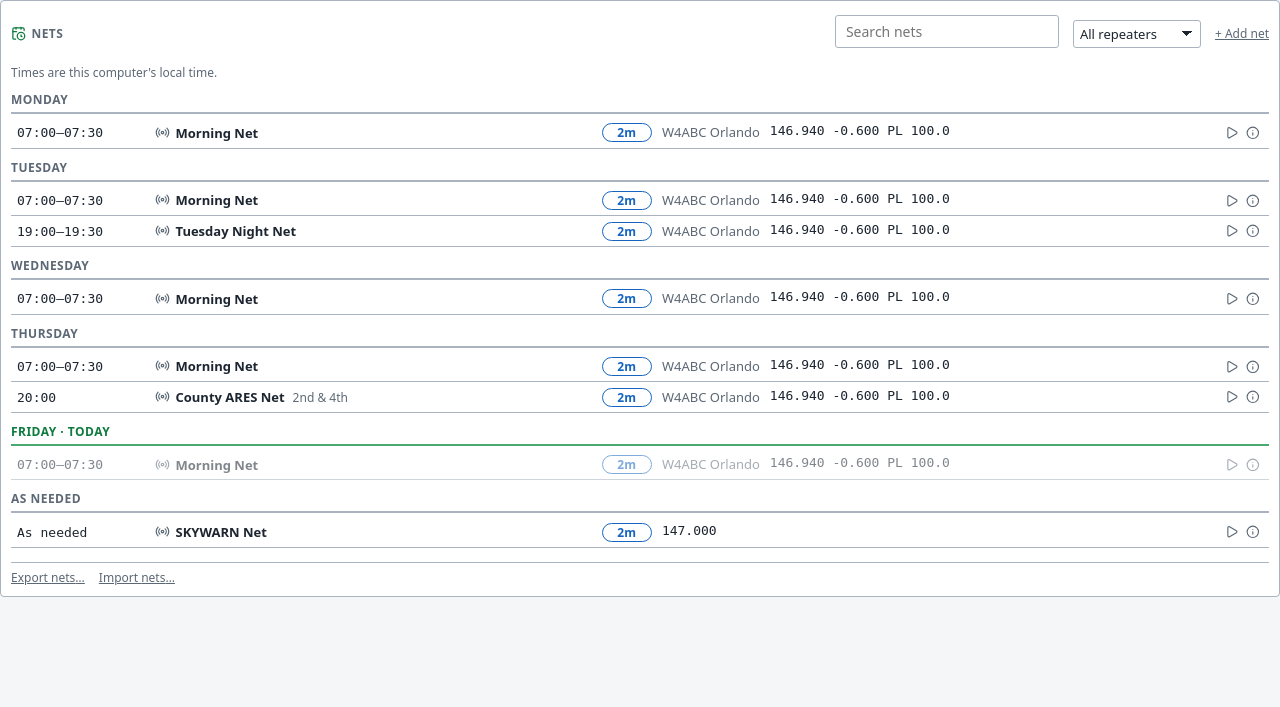
Scenario: NetsTab › edits a net listed under several days in one form
Click the 1st button named "Show details of Morning Net" at (1253, 133), box 1243,123 -> 1263,143
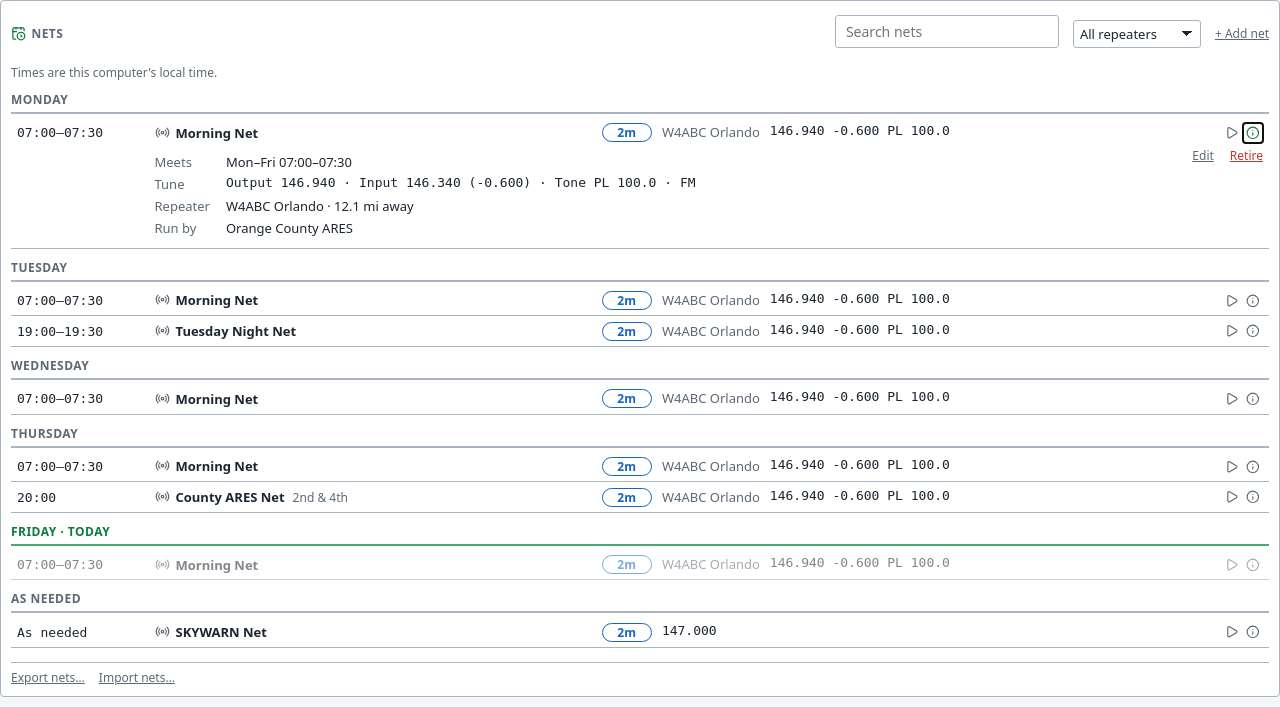
Click the button with aria-label "Edit Morning Net" at (1203, 155), box 1192,147 -> 1214,164
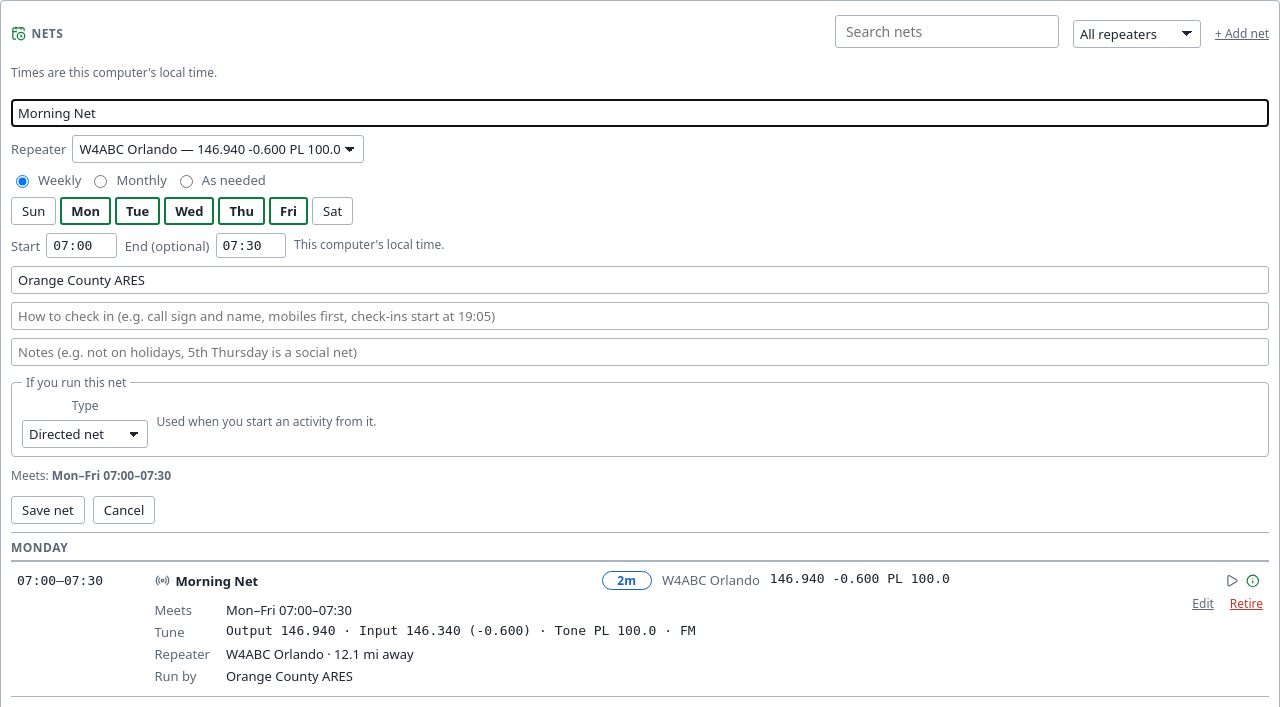
Result: the number of buttons "Save net" is 1 at 11,496 -> 85,524
Result: the field named "Net name" holds "Morning Net" at 11,99 -> 1269,127
